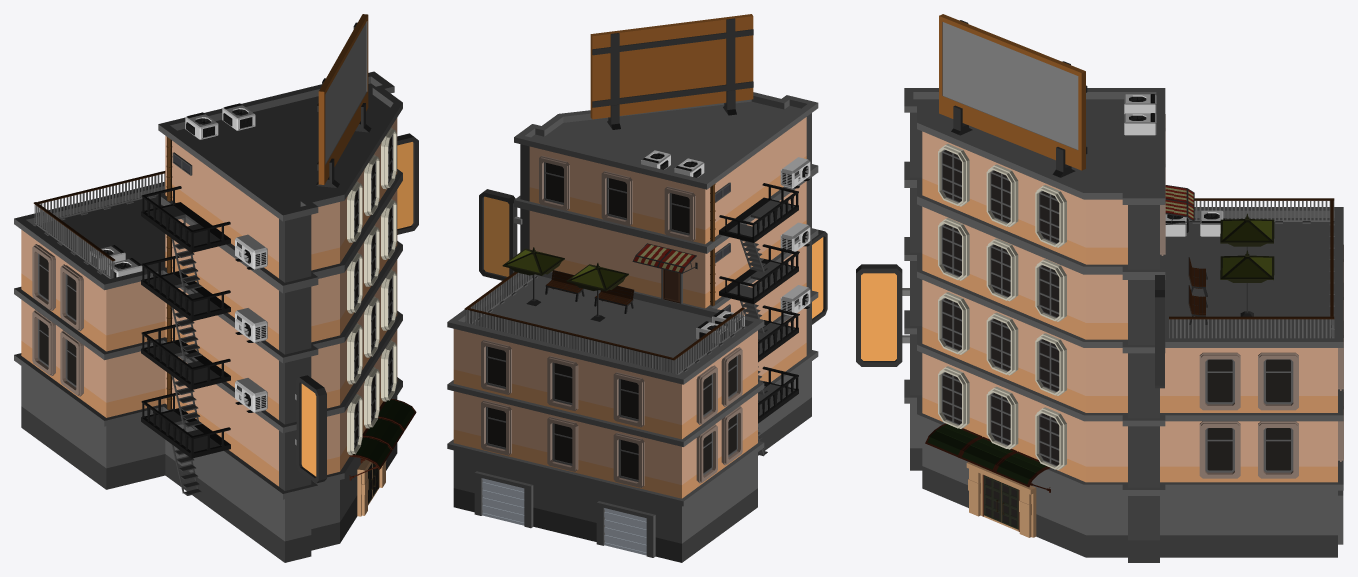
File: House 7.fbx
3 views of the same model, side by side, from view 1: azimuth 30°, elevation 25°; view 2: azimuth 150°, elevation 25°; view 3: azimuth 270°, elevation 25° (orthographic). The views are drawn at different scales.
Visible parts, largest first — view 1: House 7; view 2: House 7; view 3: House 7.
Part boxes in pixels (x1,y1,x2,y2): House 7: (14,14,418,562); House 7: (447,14,827,562); House 7: (856,14,1343,562).
Bounding box in the file's own units: 18.58 × 19.7 × 14.52.
